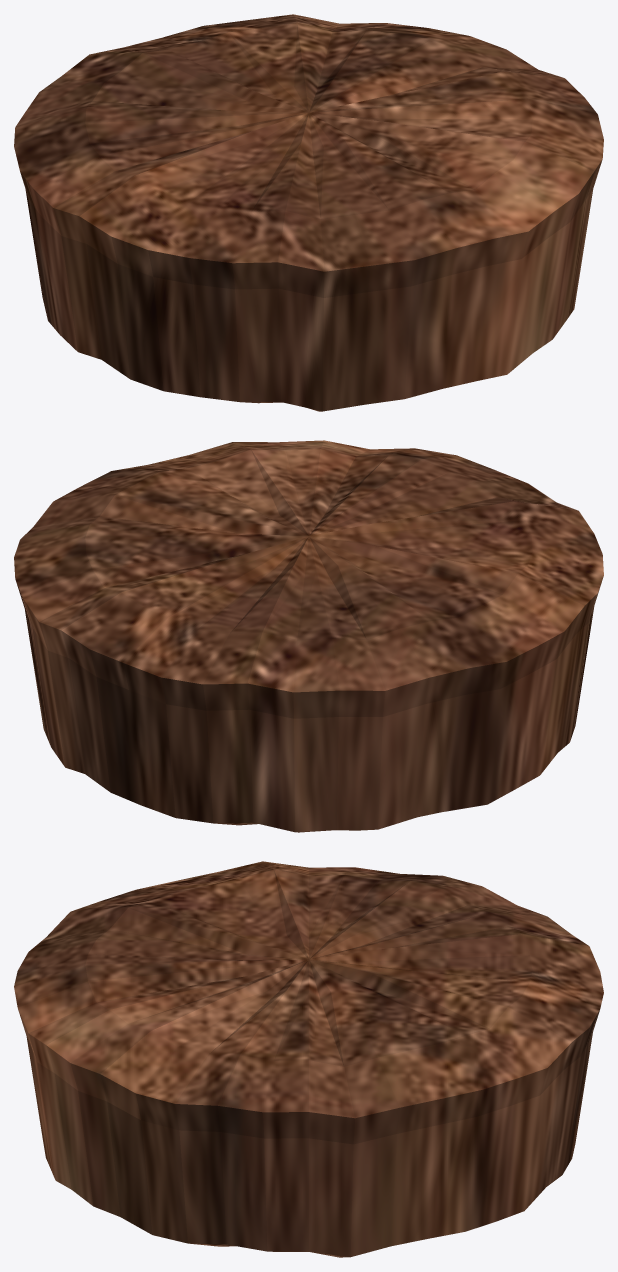
File: s02-single-hole-soil-plug.glb
3 views of the same model, one above another, from view 1: azimuth 30°, elevation 25°; view 2: azimuth 150°, elevation 25°; view 3: azimuth 270°, elevation 25° (orthographic).
Parts seen in each view (by area): view 1: world; view 2: world; view 3: world.
Part boxes in pixels (x1,y1,x2,y2): world: (14,14,603,411); world: (14,440,603,832); world: (14,861,603,1257).
Bounding box in the file's own units: 0.124 × 0.0504 × 0.124.
1 material, 1 textured.
